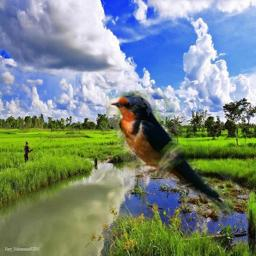Swallow: (106, 90, 234, 215)
